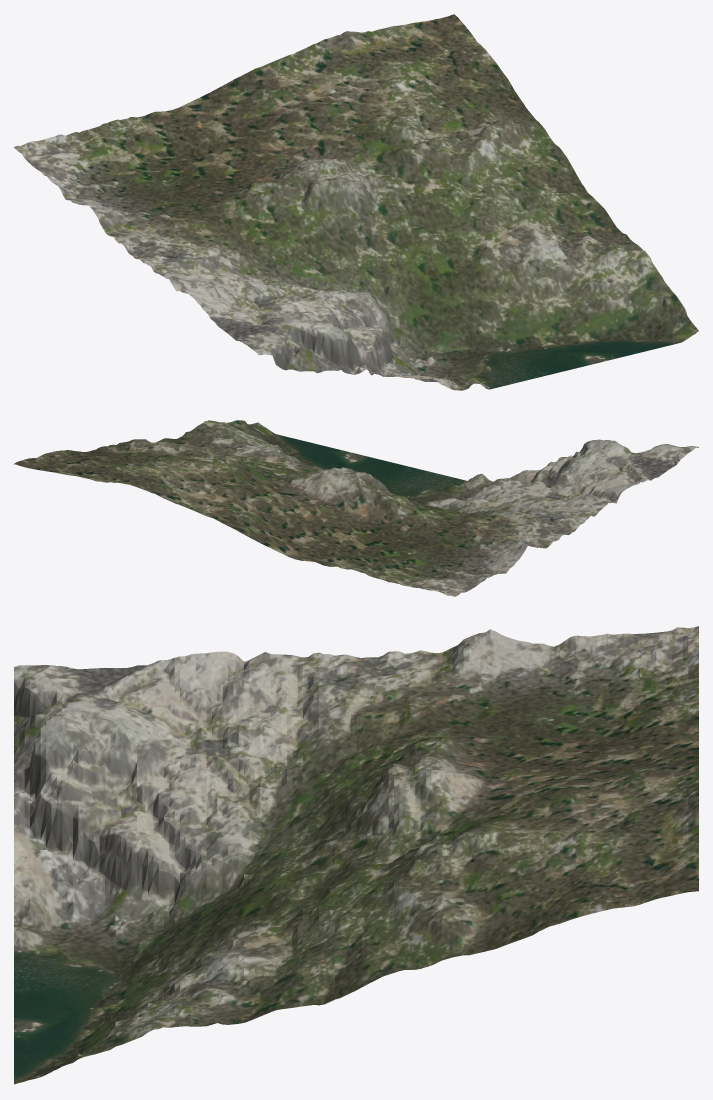
The picture shows the model from 3 angles, top to bottom: view 1: azimuth 30°, elevation 25°; view 2: azimuth 150°, elevation 25°; view 3: azimuth 270°, elevation 25°; orthographic projection. The views are drawn at different scales.
Size of the model in its own units: 500 by 169 by 481.
Materials: 1 (1 with a texture image).
